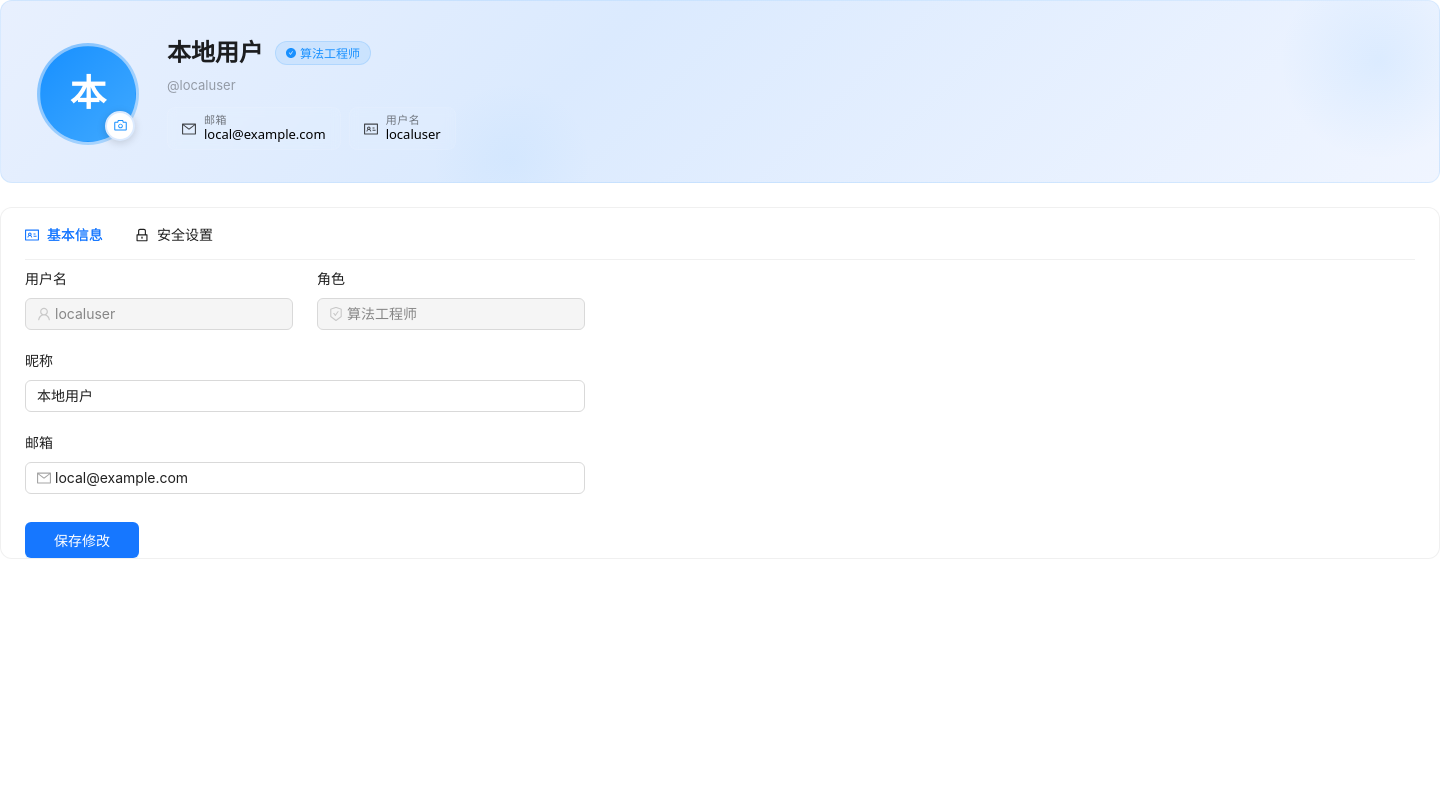
Test: ProfilePage 按认证方式控制可编辑性 › 本地用户可修改密码
Click the tab "安全设置" at (174, 236), box left=135, top=224, right=213, bottom=248
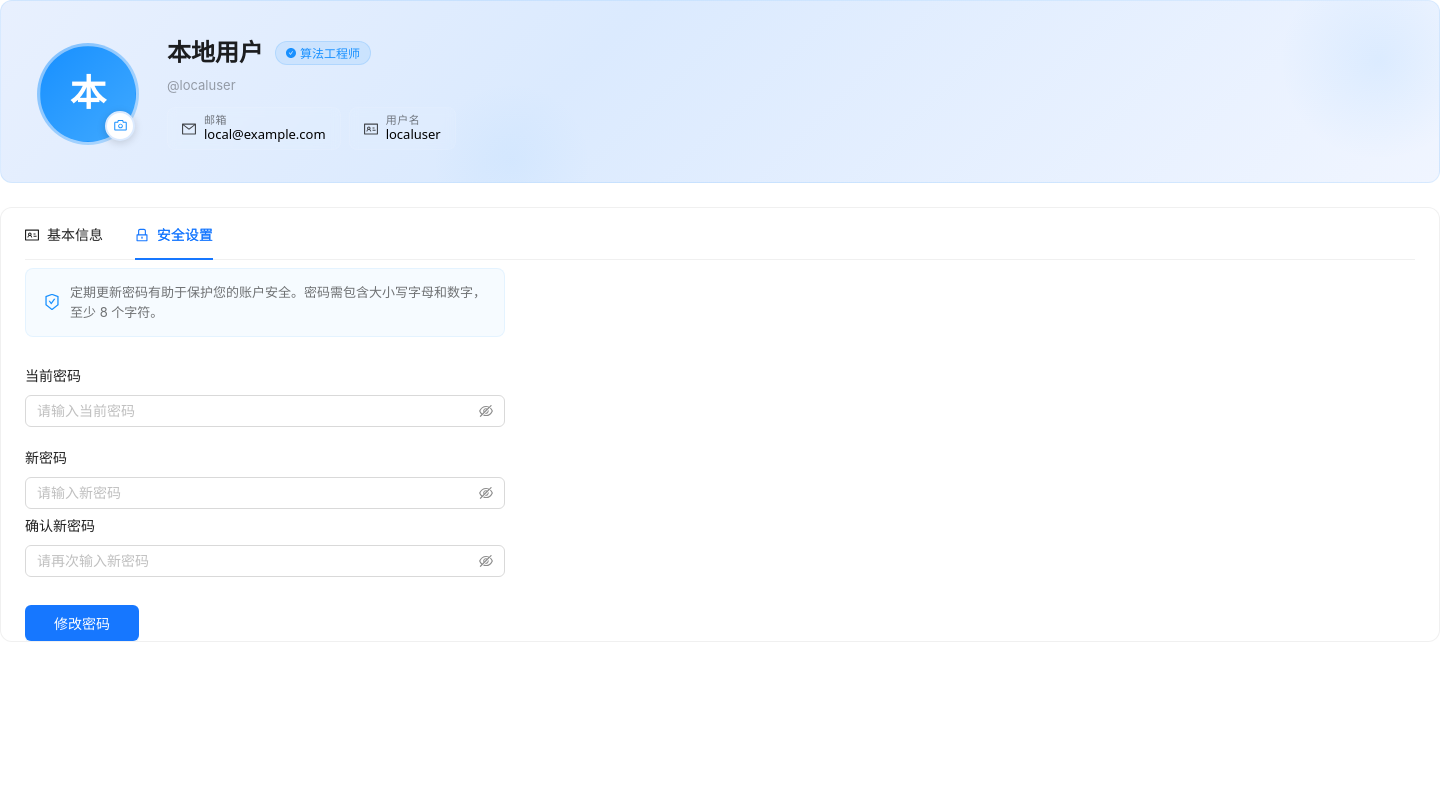
Expected: the password field labelled "当前密码" is enabled, left=37, top=400, right=475, bottom=422
Expected: the button "修改密码" is shown, left=25, top=605, right=139, bottom=641
